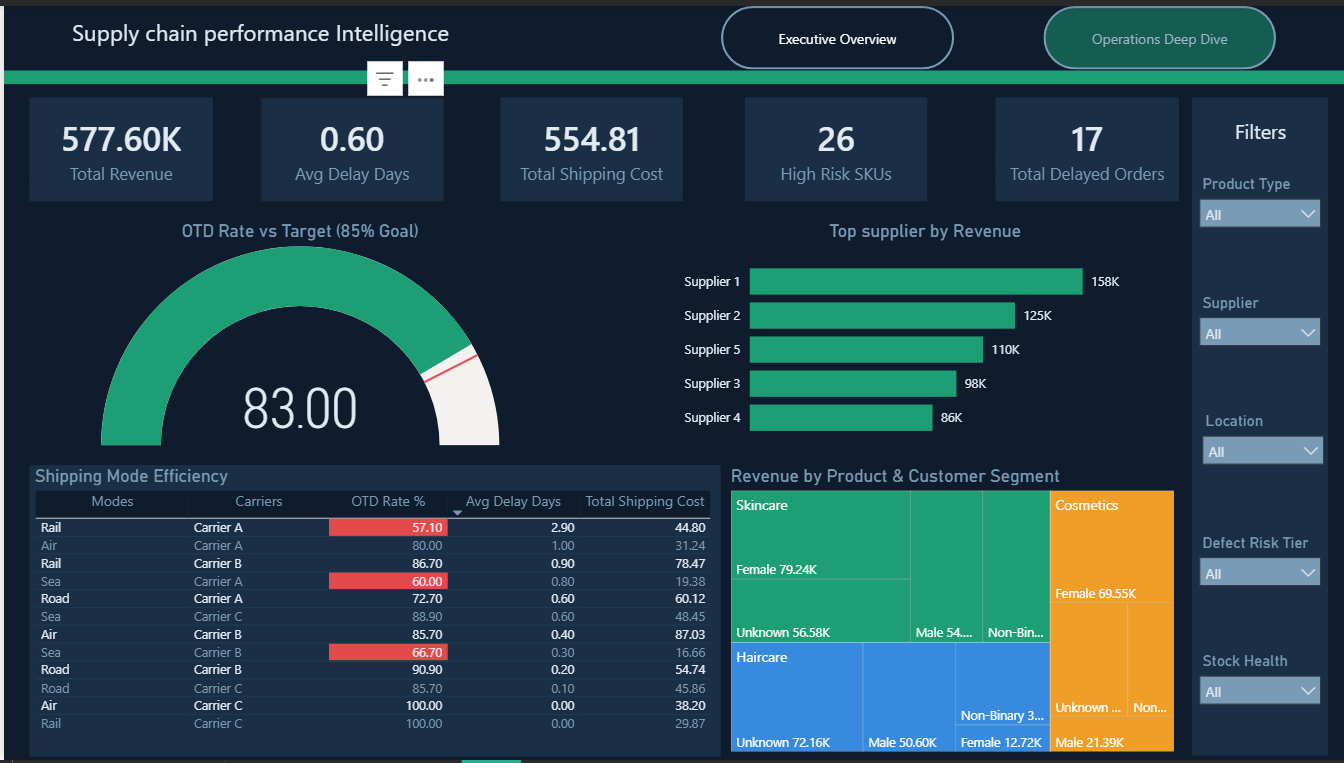

This screenshot's page, from the dashboard's own definition file:
{"tool":"powerbi","page":{"name":"Operations deep dive","canvas":[1280,720],"ordinal":1},"visuals":[{"type":"textbox","box":[60,5,414.8,47.2],"z":0},{"type":"shape","box":[0,61.8,1280.1,13],"z":1000},{"type":"actionButton","title":"Executive Overview","box":[684.4,0,222.6,60.6],"z":2000},{"type":"actionButton","box":[993.3,0,222,60.6],"z":3000},{"type":"cardVisual","fields":{"Data":["Measure Table.Total Revenue"]},"box":[24.2,87.3,175.6,99.9],"z":4000},{"type":"cardVisual","fields":{"Data":["Measure Table.Avg Delay Days"]},"box":[245.3,87.8,175.6,99.9],"z":5000},{"type":"cardVisual","fields":{"Data":["Measure Table.High Risk SKUs"]},"box":[707.1,87.8,174.1,99.9],"z":6000},{"type":"cardVisual","fields":{"Data":["Measure Table.Total Shipping Cost"]},"box":[473.9,87.8,174.1,99.9],"z":7000},{"type":"cardVisual","fields":{"Data":["Measure Table.Total Delayed Orders"]},"box":[946.4,87.8,175.6,99.9],"z":8000},{"type":"shape","box":[1134.1,87.8,130.2,628.4],"z":9000},{"type":"textbox","box":[1155.3,101.5,87.8,36.3],"z":10000},{"type":"clusteredBarChart","title":"Top supplier by Revenue","fields":{"Category":["dim_supplier.supplier_name"],"Y":["Measure Table.Total Revenue"]},"box":[639.5,205.3,481.6,219.5],"z":11000},{"type":"tableEx","title":"Shipping Mode Efficiency","fields":{"Values":["dim_shipping.transportation_modes","dim_shipping.shipping_carriers","Measure Table.OTD Rate %","Measure Table.Avg Delay Days","Measure Table.Total Shipping Cost"]},"box":[24.2,437.6,660.2,278.6],"z":12000},{"type":"treemap","title":"Revenue by Product & Customer Segment","fields":{"Group":["dim_product.product_type"],"Details":["dim_customer.customer_demographics"],"Values":["Measure Table.Total Revenue"]},"box":[689,437.6,433.1,278.6],"z":13000},{"type":"gauge","title":"OTD Rate vs Target (85% Goal)","fields":{"Y":["Measure Table.OTD Rate %"],"TargetValue":["Measure Table.OTD Target"]},"box":[23.7,205.3,516.3,219.5],"z":14000},{"type":"slicer","fields":{"Values":["dim_product.product_type"]},"box":[1131.1,156,136.3,63.6],"z":15000},{"type":"slicer","fields":{"Values":["dim_supplier.supplier_name"]},"box":[1131.1,269.5,136.3,63.6],"z":16000},{"type":"slicer","fields":{"Values":["dim_supplier.location"]},"box":[1134.1,383.1,136,63],"z":17000},{"type":"slicer","fields":{"Values":["fact_supply_chain.defect_risk_tier"]},"box":[1131.1,498.2,136.3,63.6],"z":18000},{"type":"slicer","fields":{"Values":["fact_supply_chain.stock_health"]},"box":[1131.1,611.7,136.3,63.6],"z":19000}]}

Visuals, with their boxes in screenshot pixels (x1, y1, x2, y2), scaled from the page's 1280x720 canvas onto the 1344x763 screenshot:
textbox: left=63, top=5, right=499, bottom=55
shape: left=0, top=65, right=1343, bottom=79
"Executive Overview" actionButton: left=719, top=0, right=952, bottom=64
actionButton: left=1043, top=0, right=1276, bottom=64
cardVisual - Measure Table.Total Revenue: left=25, top=93, right=210, bottom=198
cardVisual - Measure Table.Avg Delay Days: left=258, top=93, right=442, bottom=199
cardVisual - Measure Table.High Risk SKUs: left=742, top=93, right=925, bottom=199
cardVisual - Measure Table.Total Shipping Cost: left=498, top=93, right=680, bottom=199
cardVisual - Measure Table.Total Delayed Orders: left=994, top=93, right=1178, bottom=199
shape: left=1191, top=93, right=1328, bottom=759
textbox: left=1213, top=108, right=1305, bottom=146
"Top supplier by Revenue" clusteredBarChart: left=671, top=218, right=1177, bottom=450
"Shipping Mode Efficiency" tableEx: left=25, top=464, right=719, bottom=759
"Revenue by Product & Customer Segment" treemap: left=723, top=464, right=1178, bottom=759
"OTD Rate vs Target (85% Goal)" gauge: left=25, top=218, right=567, bottom=450
slicer - dim_product.product_type: left=1188, top=165, right=1331, bottom=233
slicer - dim_supplier.supplier_name: left=1188, top=286, right=1331, bottom=353
slicer - dim_supplier.location: left=1191, top=406, right=1334, bottom=473
slicer - fact_supply_chain.defect_risk_tier: left=1188, top=528, right=1331, bottom=595
slicer - fact_supply_chain.stock_health: left=1188, top=648, right=1331, bottom=716
